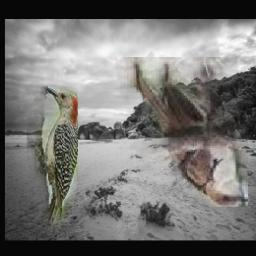Cuckoo: (116, 58, 249, 208)
Woodpecker: (27, 86, 78, 232)
